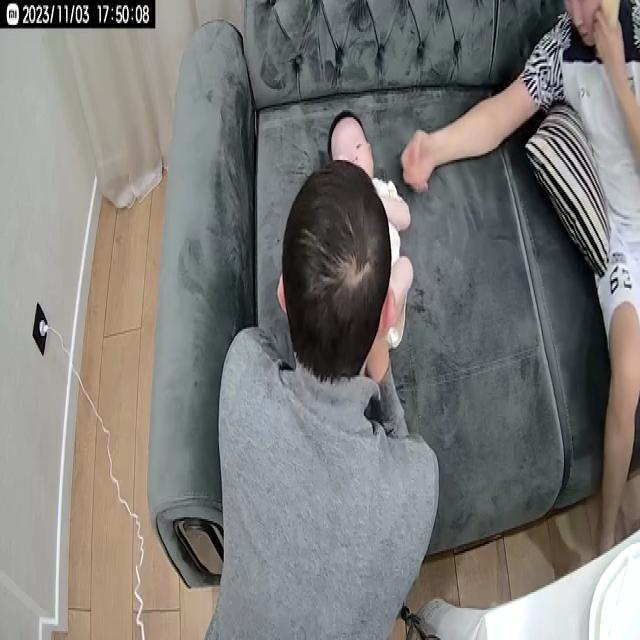baby: (326, 111, 415, 352)
